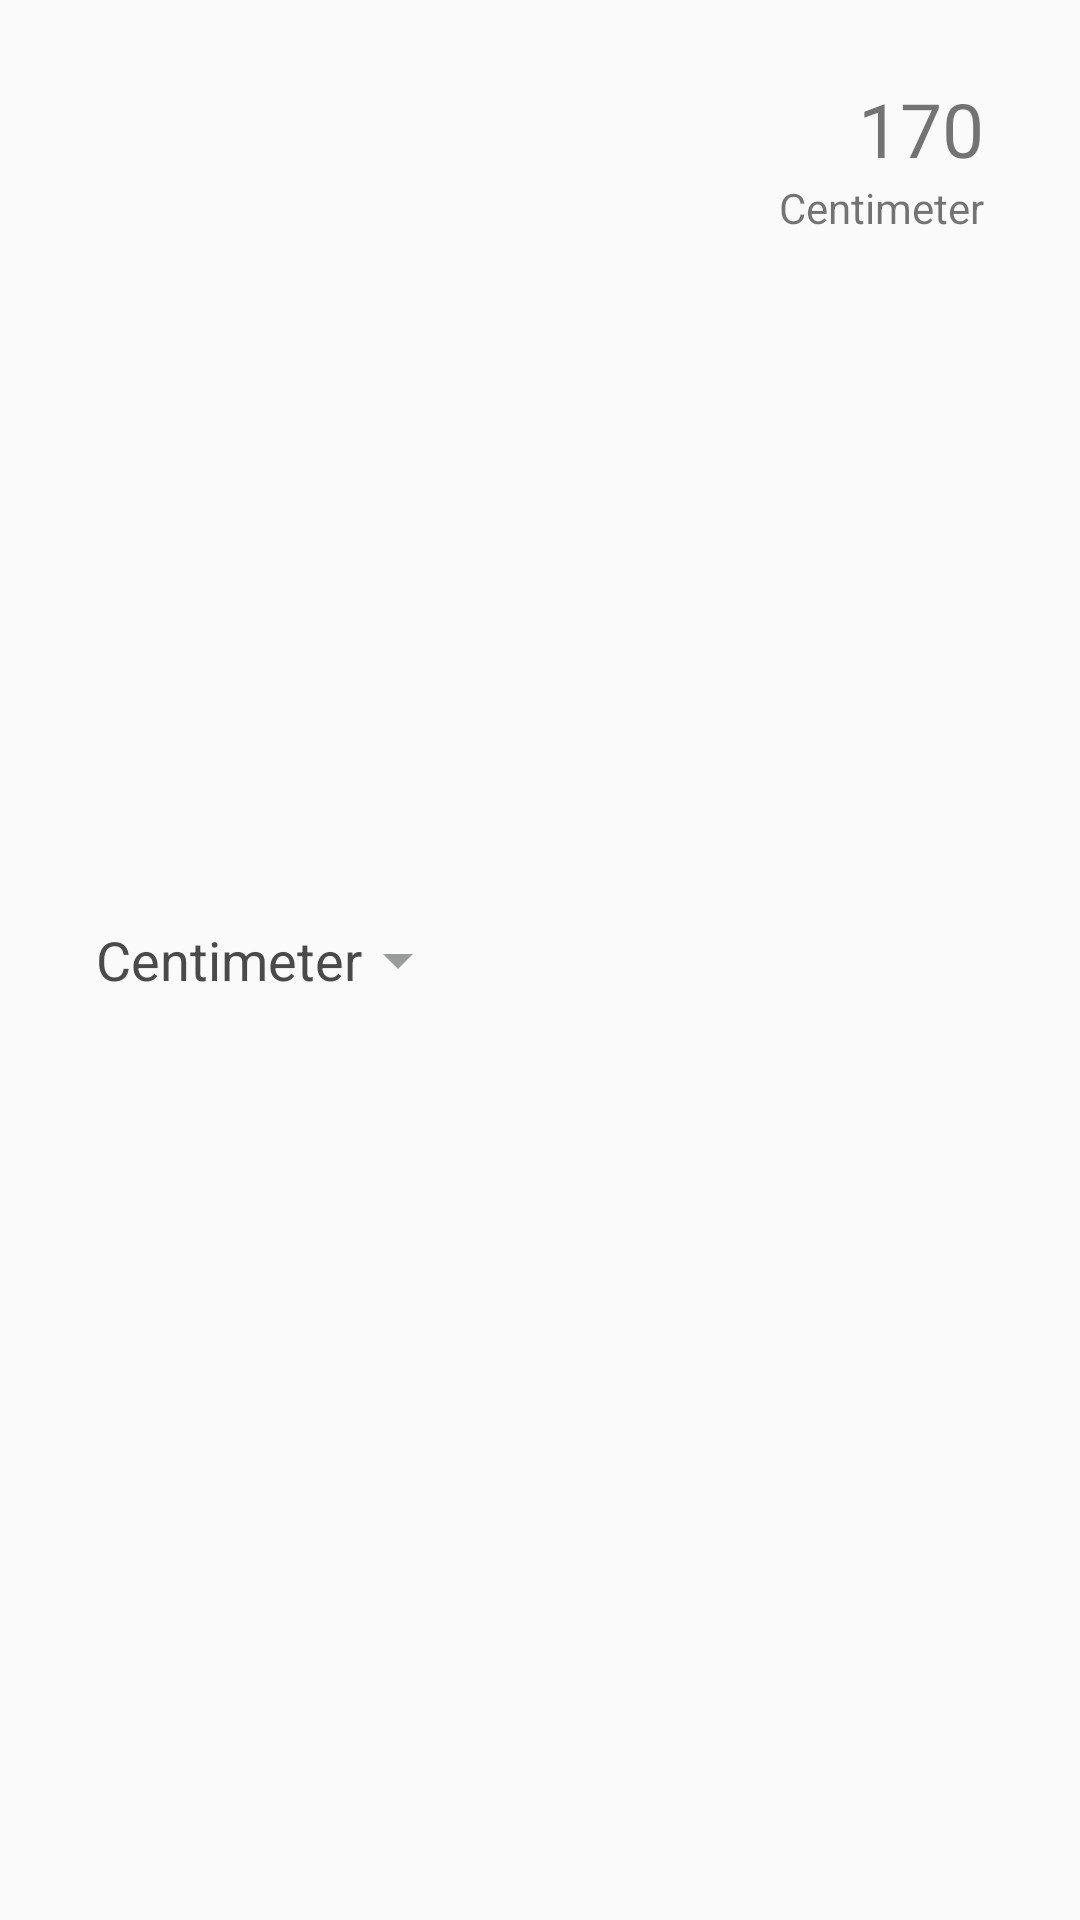

Icons on this 1080 × 1920 Android screen, each with its box as (left=x1, top=y1, right=x2, bottom=y2):
arrow drop down: (left=383, top=954, right=413, bottom=969)
